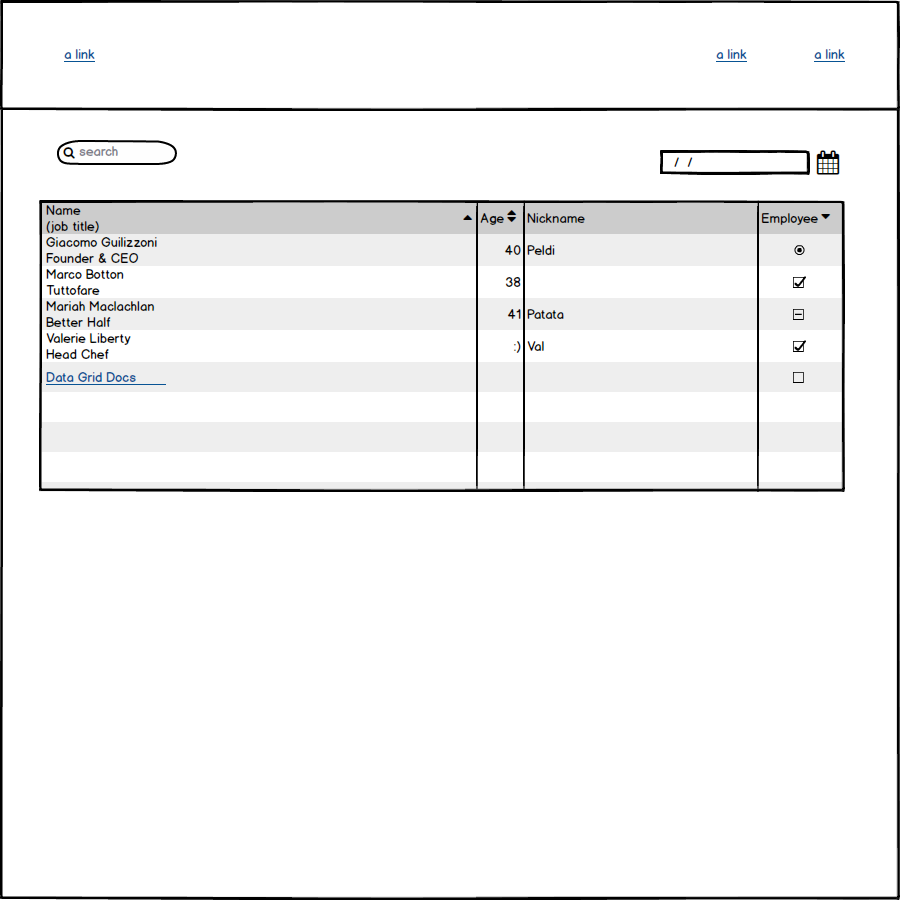date_picker: (648, 143, 842, 181)
navlink: (52, 40, 108, 69), (708, 38, 757, 70), (808, 41, 856, 73)
search: (45, 129, 183, 177)
table: (31, 193, 861, 497)
